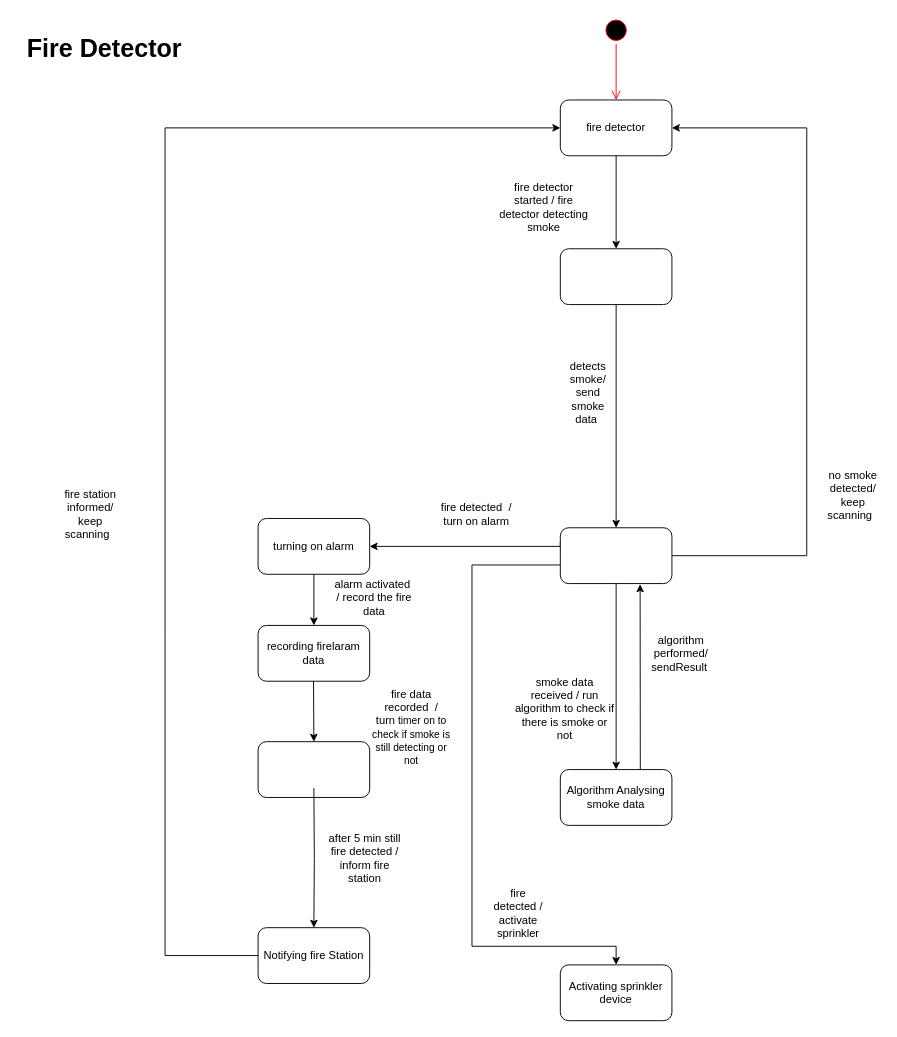
The diagram is 897 pixels wide and 1037 high, and some of its shapes have lost their labels. Each missing label, with the centre of its shape:
"Smart Home Control" belongs at (615,555).
"smoke detector interface" belongs at (615,276).
"turning on timer" belongs at (313,769).
